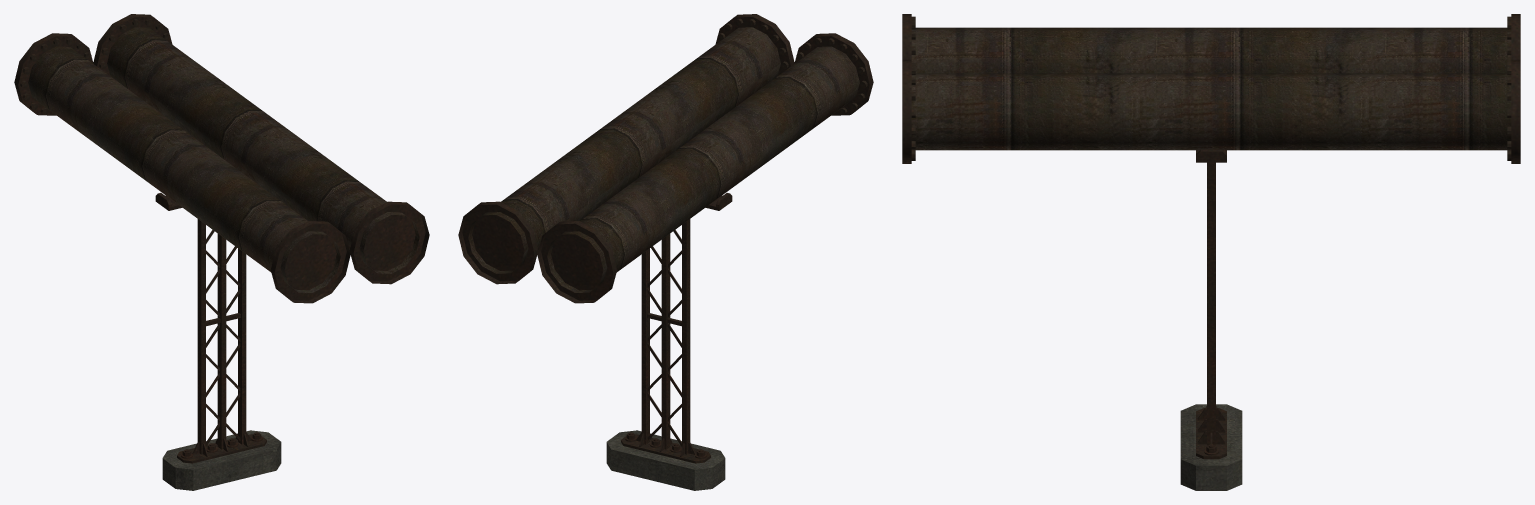
The model's file is pipe_cx_5.obj.
3 views of the same model, side by side, from view 1: azimuth 30°, elevation 25°; view 2: azimuth 150°, elevation 25°; view 3: azimuth 270°, elevation 25° (orthographic). The views are drawn at different scales.
Visible parts, largest first — view 1: pipe_cx_5; view 2: pipe_cx_5; view 3: pipe_cx_5.
Boxes of the visible parts, <box> form: pipe_cx_5: <box>14,14,429,490</box>; pipe_cx_5: <box>458,14,873,490</box>; pipe_cx_5: <box>902,14,1520,490</box>.
Size of the model in its own units: 1.38 by 2.99 by 4.
